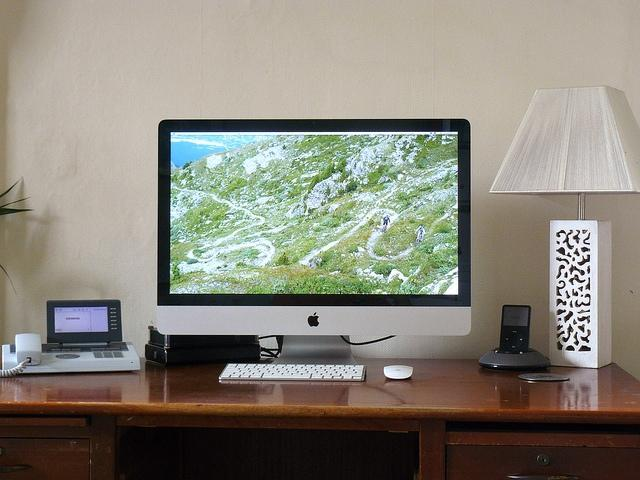apple: (308, 313, 320, 326), (396, 368, 401, 372)
